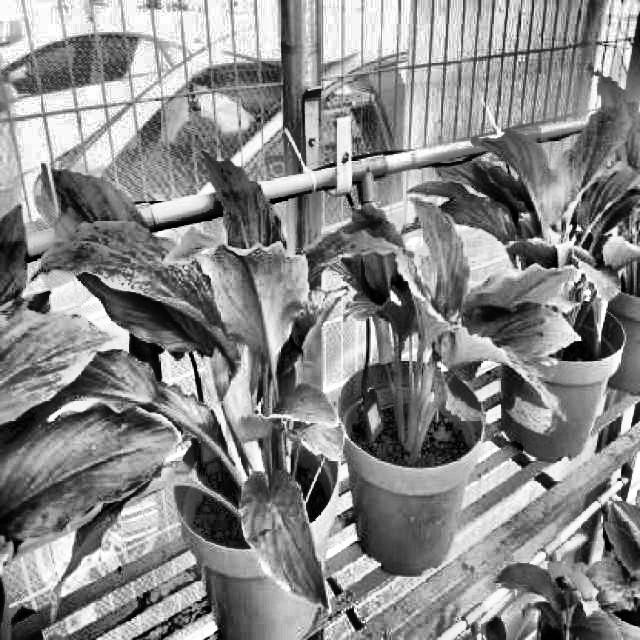plants: (36, 152, 358, 594), (0, 194, 203, 638), (306, 166, 580, 454), (416, 108, 638, 384)
